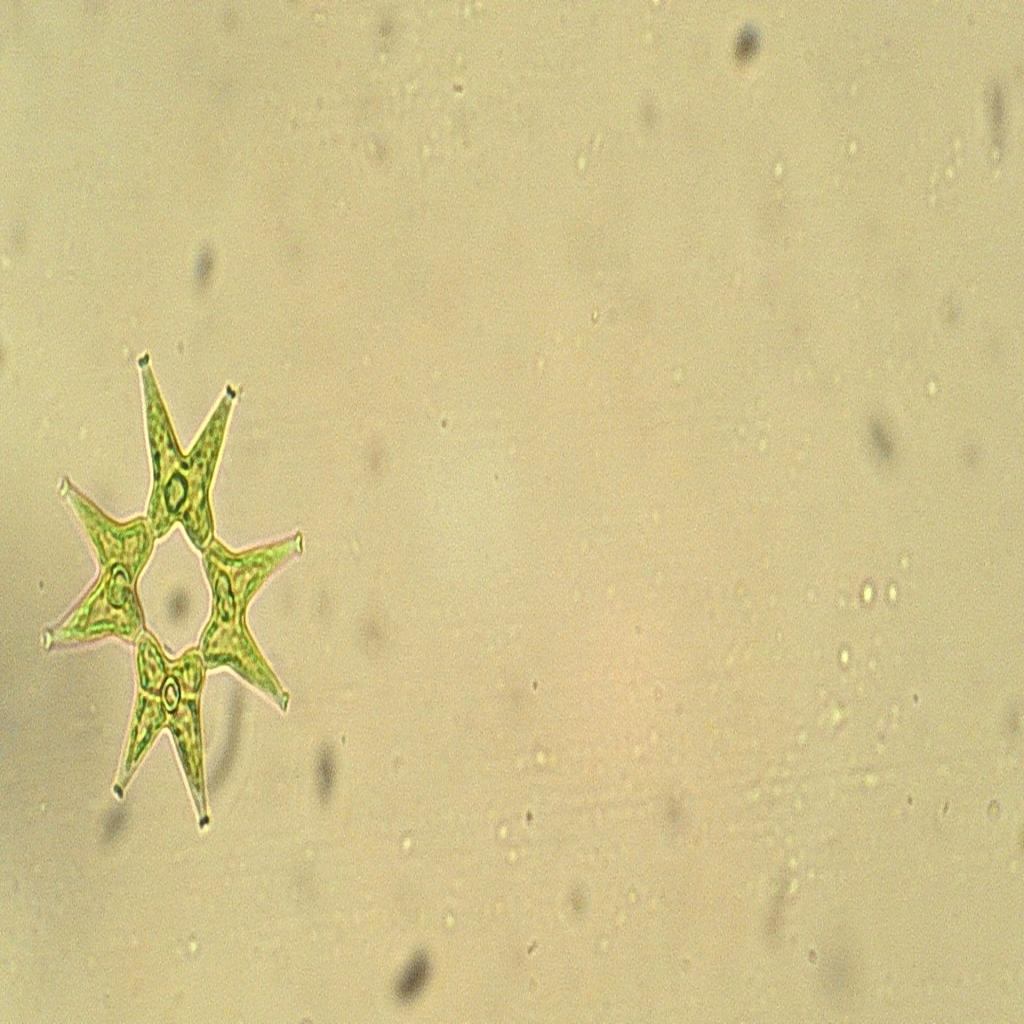Pediastrum_10: (36, 342, 317, 851)
